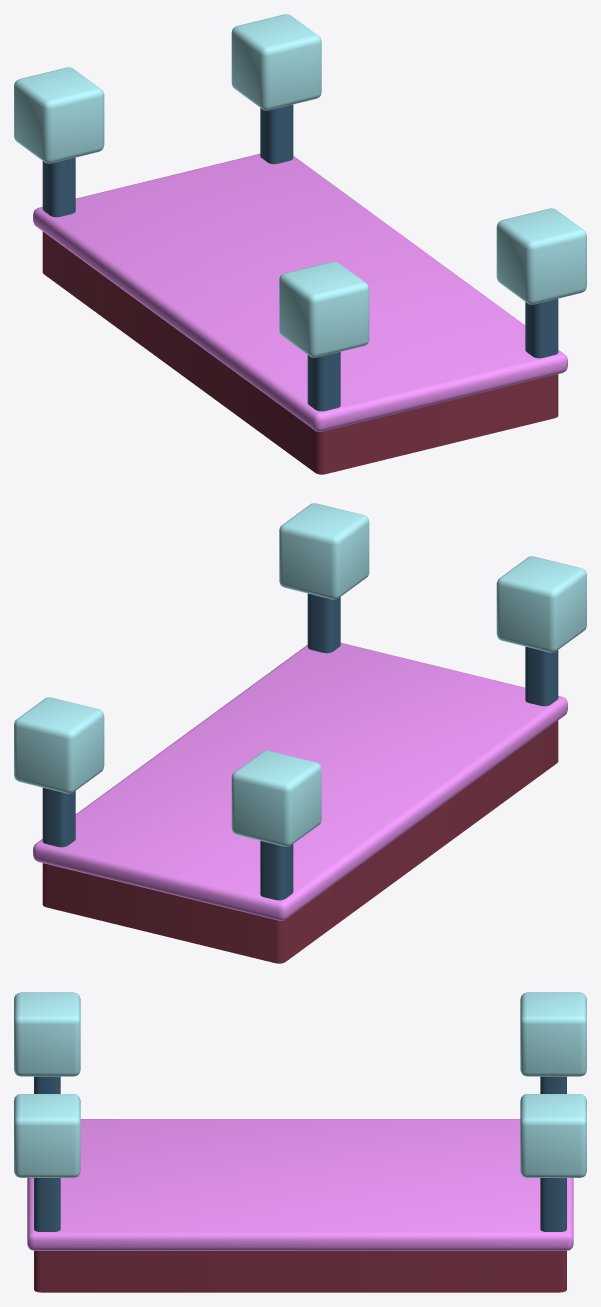
Rendered from GroundCandy.fbx.
The picture shows the model from 3 angles, top to bottom: view 1: azimuth 30°, elevation 25°; view 2: azimuth 150°, elevation 25°; view 3: azimuth 270°, elevation 25°; orthographic projection. The views are drawn at different scales.
Parts seen in each view (by area): view 1: GroundCandy; view 2: GroundCandy; view 3: GroundCandy.
Boxes of the visible parts, box(x1,y1,x2,y2) form: GroundCandy: box(14, 14, 586, 474); GroundCandy: box(14, 503, 586, 963); GroundCandy: box(14, 992, 586, 1292).
Size of the model in its own units: 920 by 600 by 1720.
